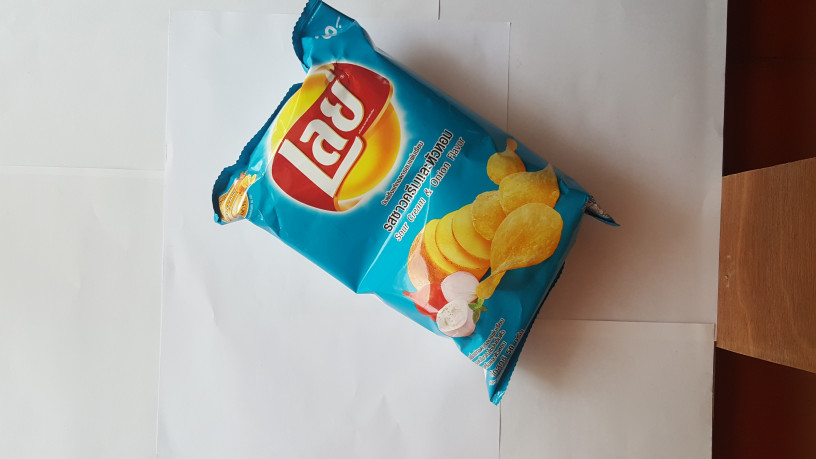lays-onion: (206, 1, 621, 399)
